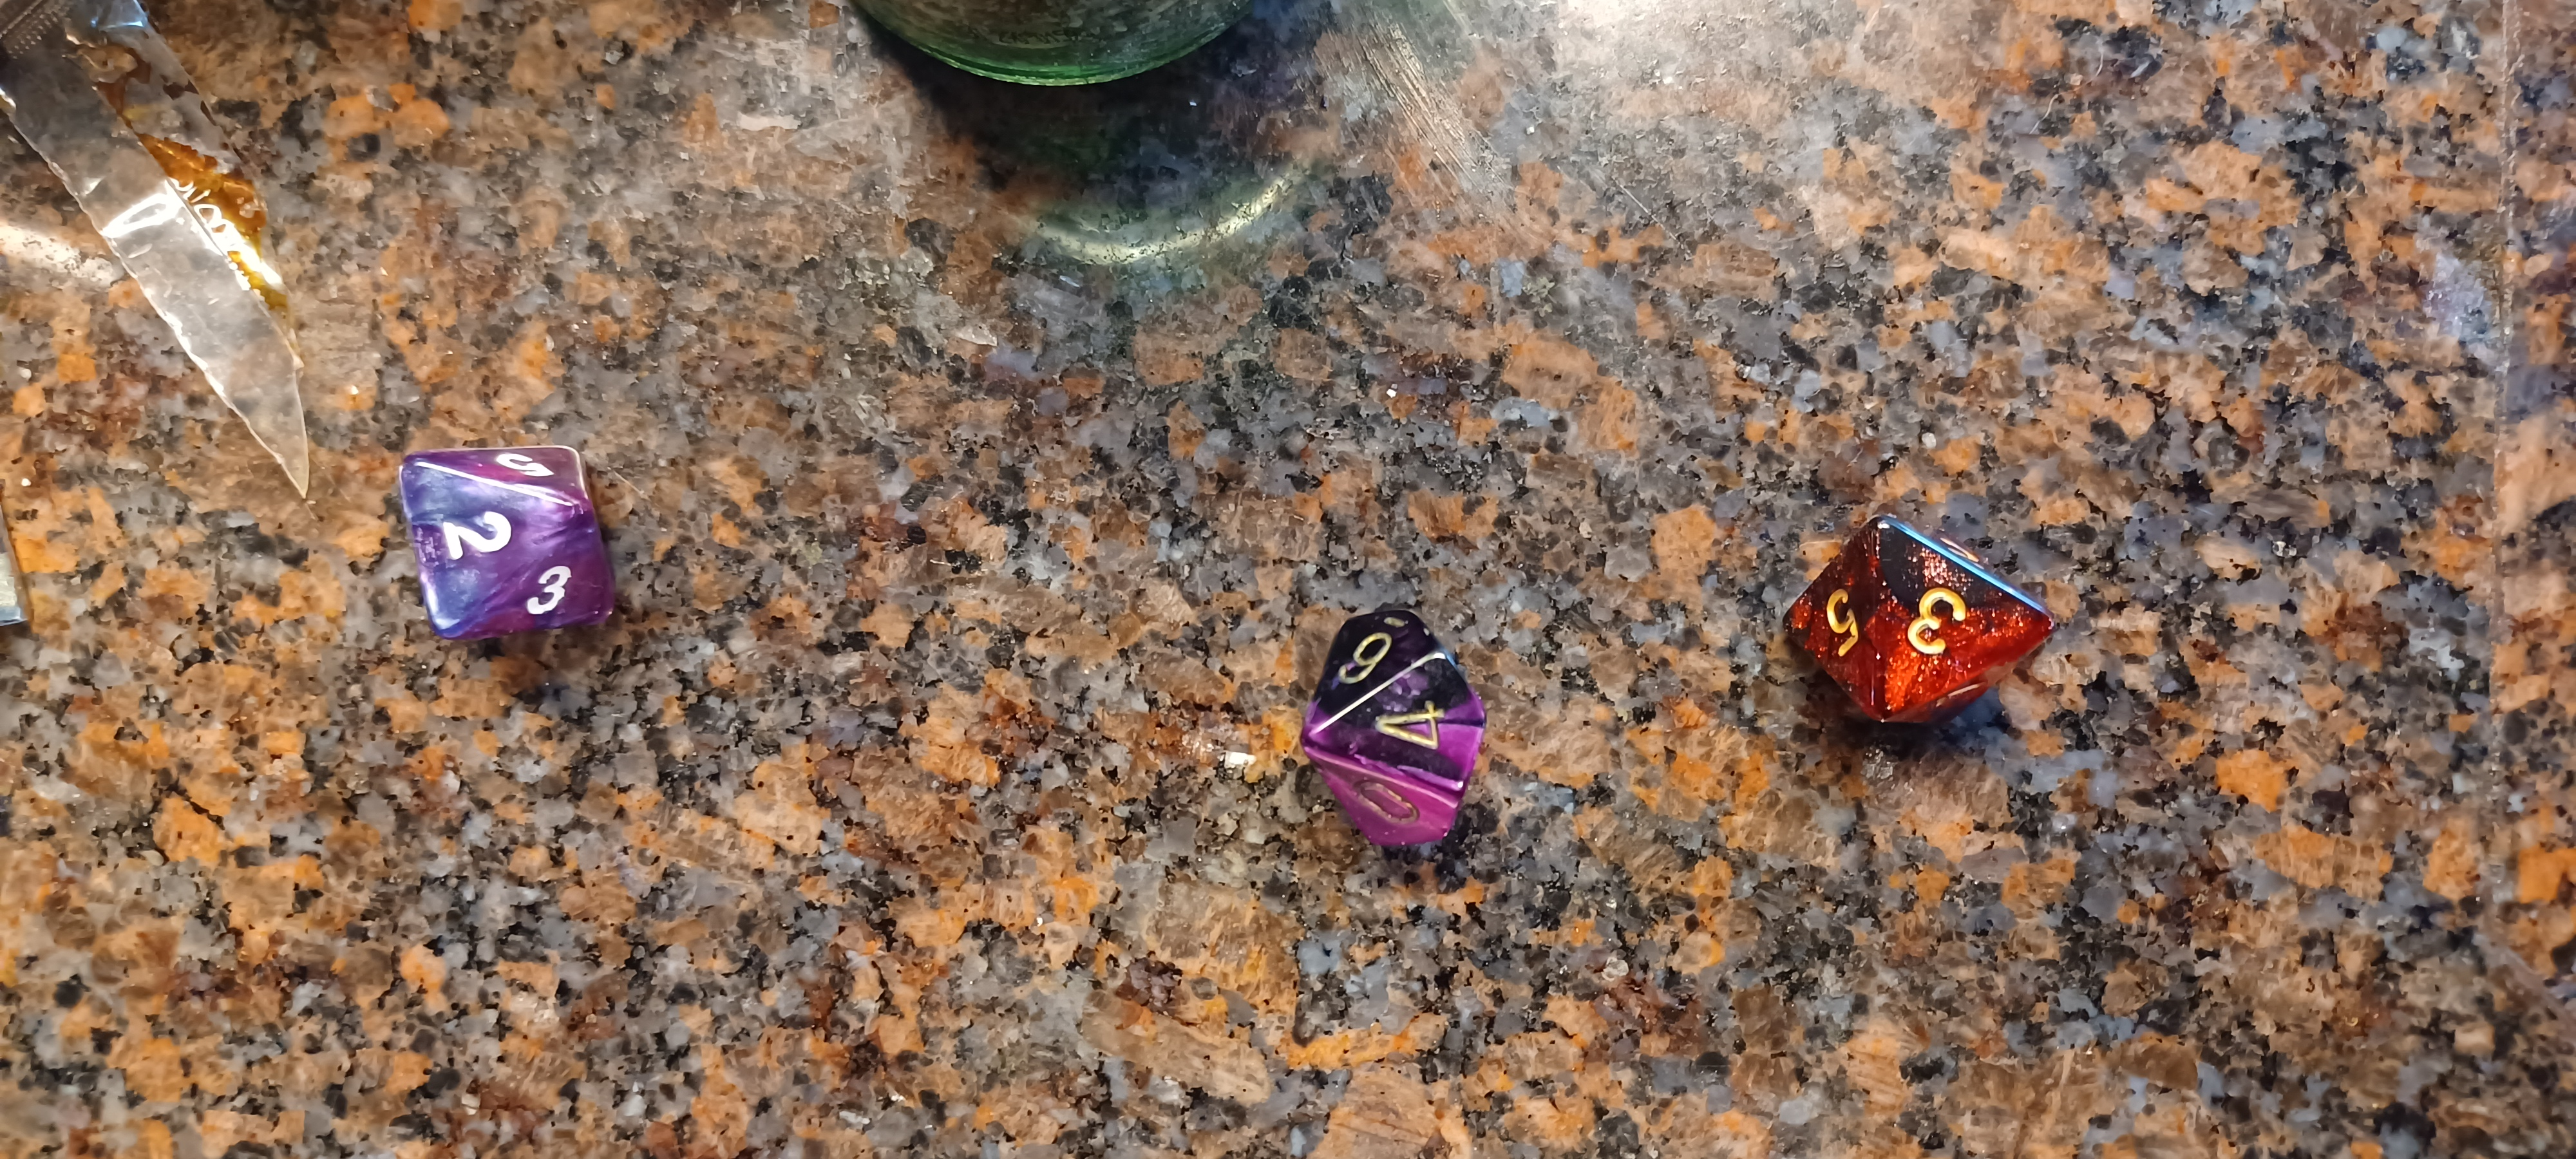four: (1230, 560, 1556, 895)
three: (1759, 488, 2109, 801)
two: (338, 407, 662, 681)
